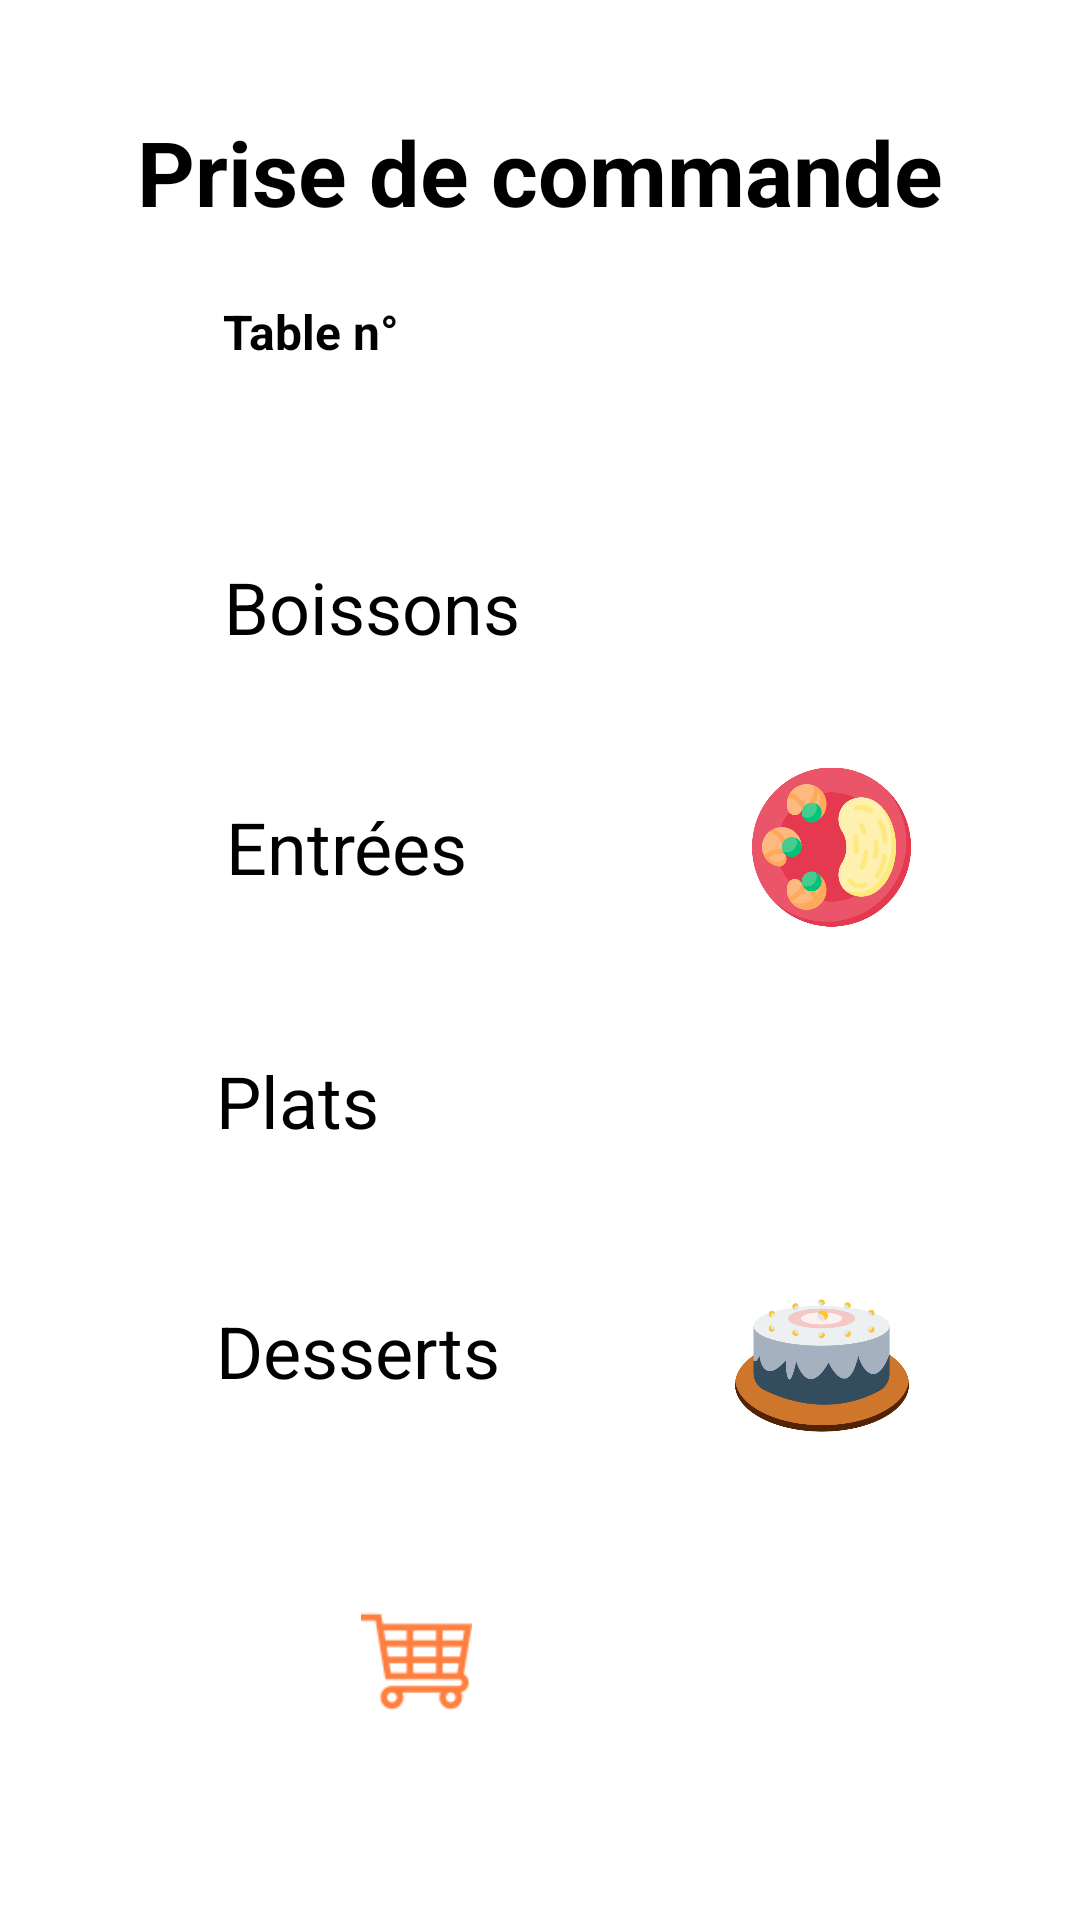

Point at icon controls on the screen. Image size 1080 × 1920, points as (x,y).
entree: (831,847)
panier: (416,1661)
